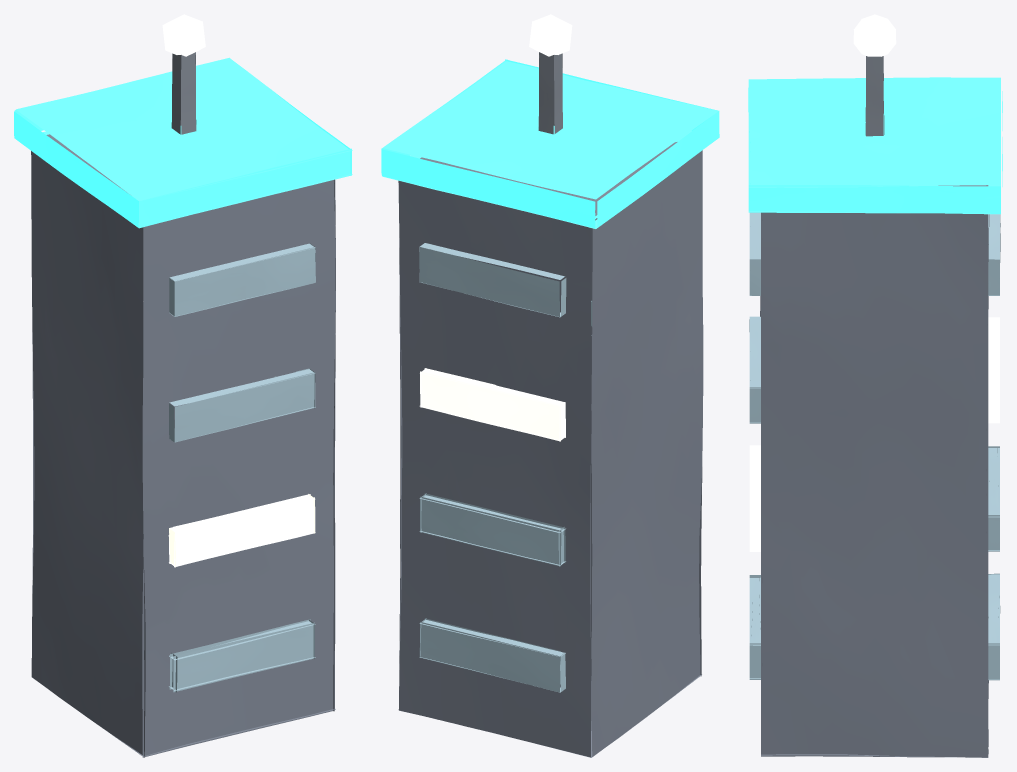
Rendered from tower.glb.
3 views of the same model, side by side, from view 1: azimuth 30°, elevation 25°; view 2: azimuth 150°, elevation 25°; view 3: azimuth 270°, elevation 25° (orthographic). The views are drawn at different scales.
Parts seen in each view (by area): view 1: MetroTower; view 2: MetroTower; view 3: MetroTower.
Boxes of the visible parts, x1,y1,x2,y2 form: MetroTower: [14, 14, 352, 757]; MetroTower: [381, 14, 719, 757]; MetroTower: [748, 14, 1002, 757].
Size of the model in its own units: 1.01 by 3.04 by 1.01.
